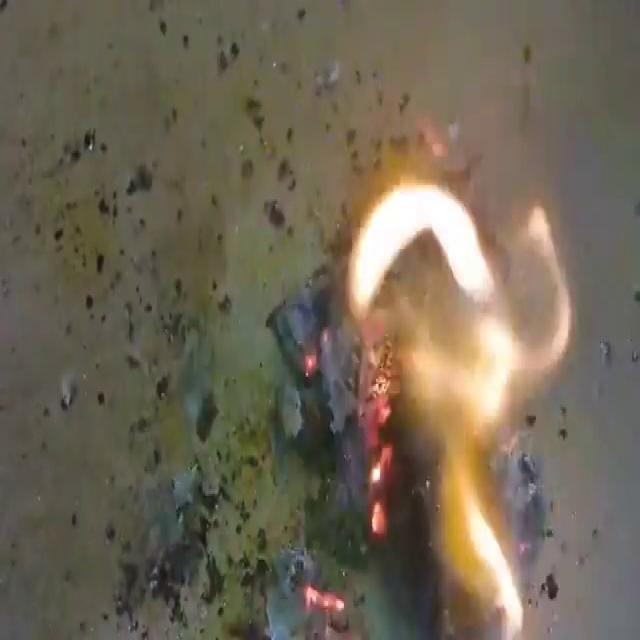Fire: (341, 170, 574, 634)
